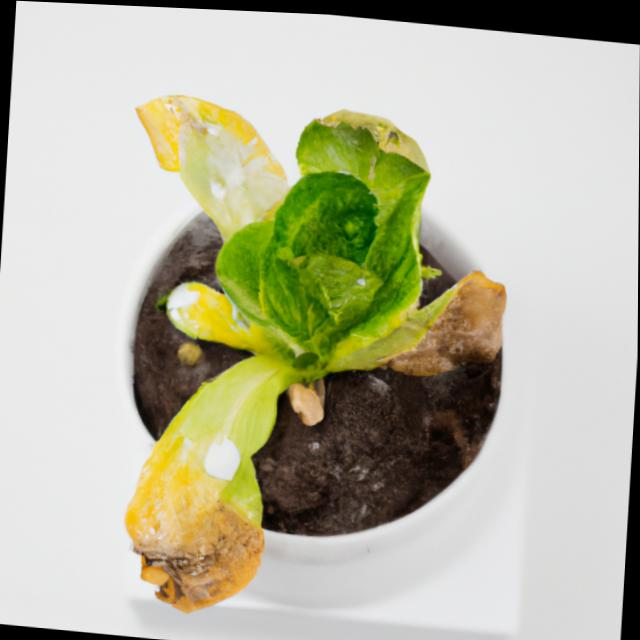-K: (97, 62, 527, 640)
